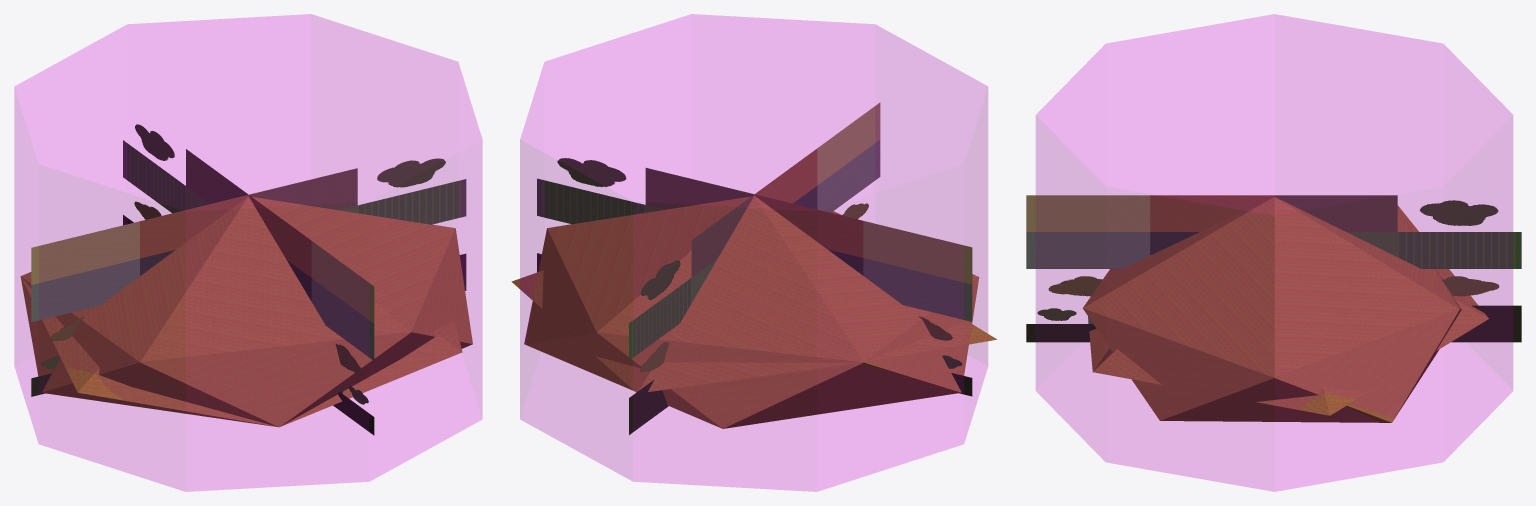
File: rock_boulder_red.dae
The picture shows the model from 3 angles, left to right: view 1: azimuth 30°, elevation 25°; view 2: azimuth 150°, elevation 25°; view 3: azimuth 270°, elevation 25°; orthographic projection.
Parts seen in each view (by area): view 1: Colmesh_rock-1, rock_boulder_red_a800, rock_boulder_red_a50, rock_boulder_red_a200; view 2: Colmesh_rock-1, rock_boulder_red_a800, rock_boulder_red_a50, rock_boulder_red_a200; view 3: Colmesh_rock-1, rock_boulder_red_a800, rock_boulder_red_a50, rock_boulder_red_a200.
Boxes of the visible parts, x1,y1,x2,y2 form: Colmesh_rock-1: [14, 14, 482, 491]; rock_boulder_red_a800: [20, 196, 472, 427]; rock_boulder_red_a50: [31, 124, 466, 435]; rock_boulder_red_a200: [21, 277, 462, 427]; Colmesh_rock-1: [520, 14, 987, 491]; rock_boulder_red_a800: [524, 196, 979, 428]; rock_boulder_red_a50: [537, 102, 972, 434]; rock_boulder_red_a200: [511, 270, 996, 392]; Colmesh_rock-1: [1036, 14, 1512, 491]; rock_boulder_red_a800: [1082, 197, 1461, 422]; rock_boulder_red_a50: [1026, 195, 1521, 342]; rock_boulder_red_a200: [1088, 205, 1488, 415].
Size of the model in its own units: 4.48 by 4.48 by 2.76.
2 materials, 1 textured.
